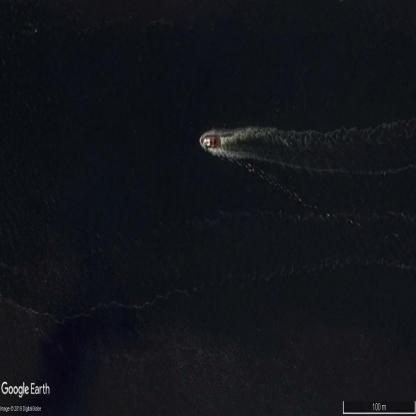ship: (201, 135, 221, 149)
